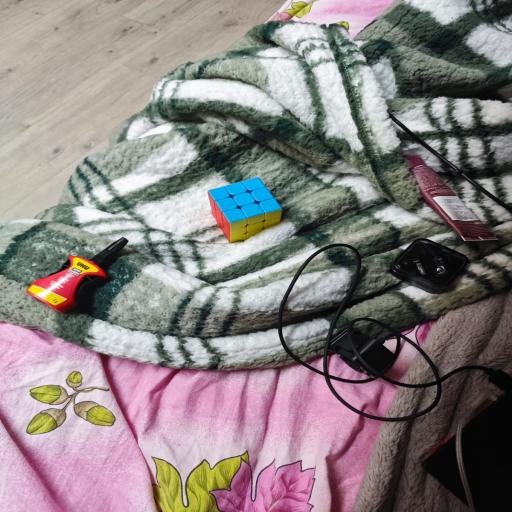Hand Cream: (401, 153, 501, 247)
Rubiks Cube: (207, 178, 287, 243)
Super Glue: (26, 235, 124, 309)
